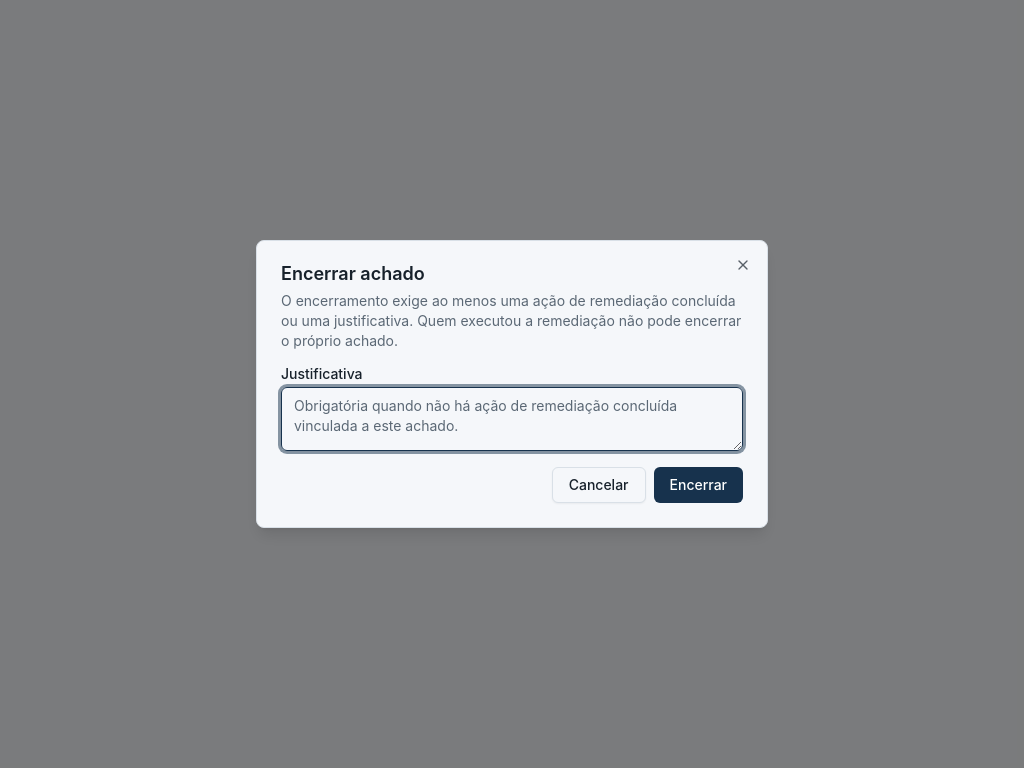
Test: FindingCloseDialog › distinguishes the segregation-of-duties refusal (403) from the evidence requirement (422)
Click the button "Encerrar": x=698, y=485 654,467 -> 743,503
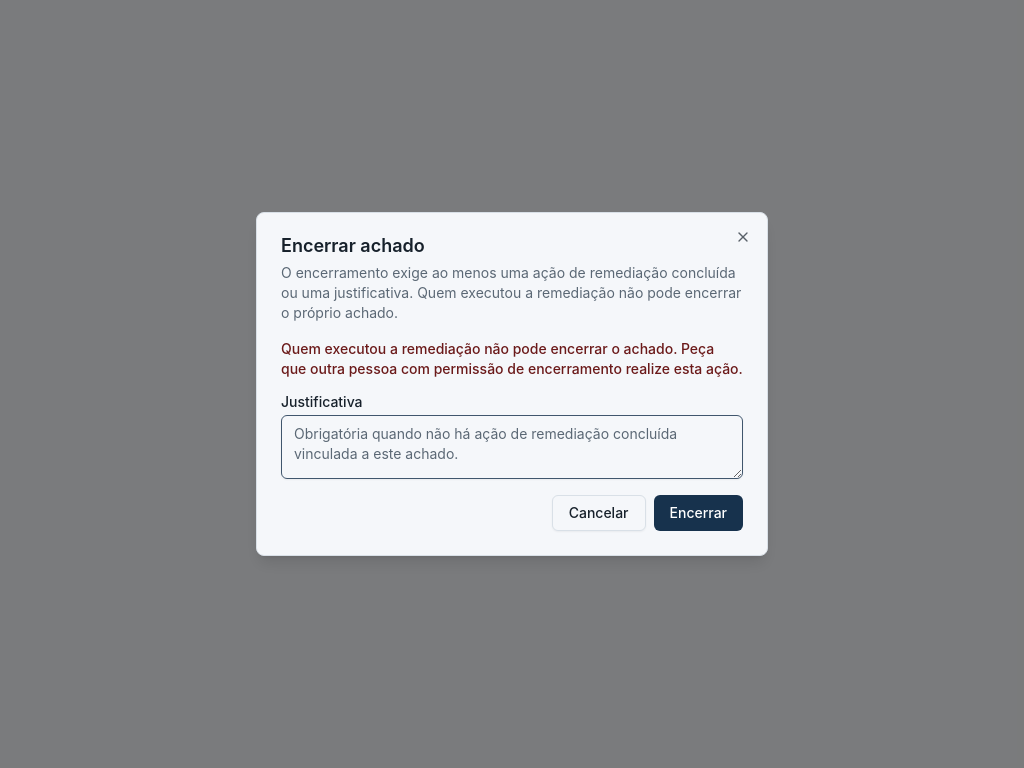
Now the text "Quem executou a remediação não pode encerrar o achado. Peça que outra pessoa com permissão de encerramento realize esta " is shown, box 281,340 -> 743,377
